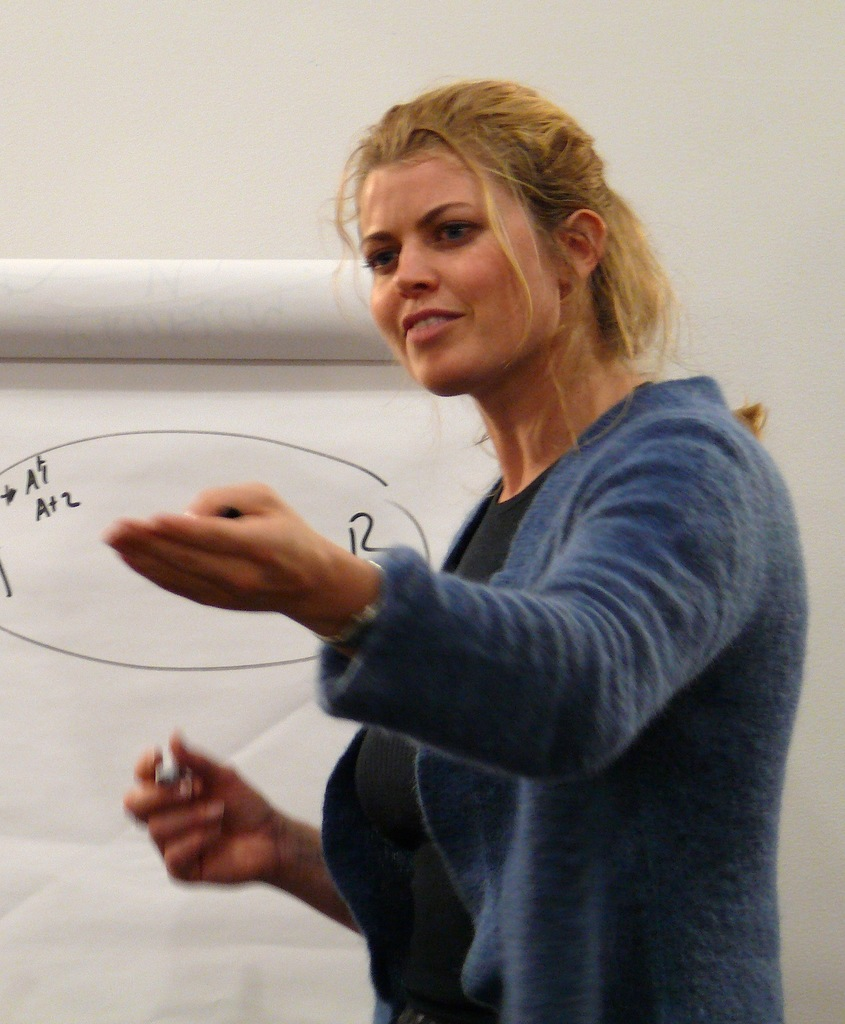Human_hand: (98, 481, 380, 639), (125, 730, 283, 883)
